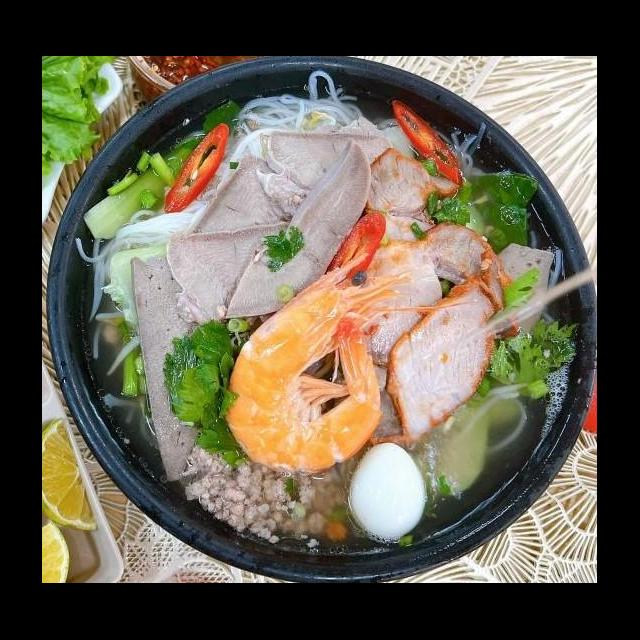banh hu tieu: (70, 172, 226, 270), (230, 63, 366, 164)
gan: (124, 250, 238, 488), (484, 238, 558, 348)
hu tieu: (45, 94, 595, 581)
thit bam: (172, 436, 360, 552)
thit heo: (379, 266, 504, 454), (408, 218, 524, 344), (349, 236, 448, 376), (329, 352, 434, 453), (353, 143, 462, 224)
tom: (214, 248, 414, 480)
trung: (342, 438, 428, 548)
